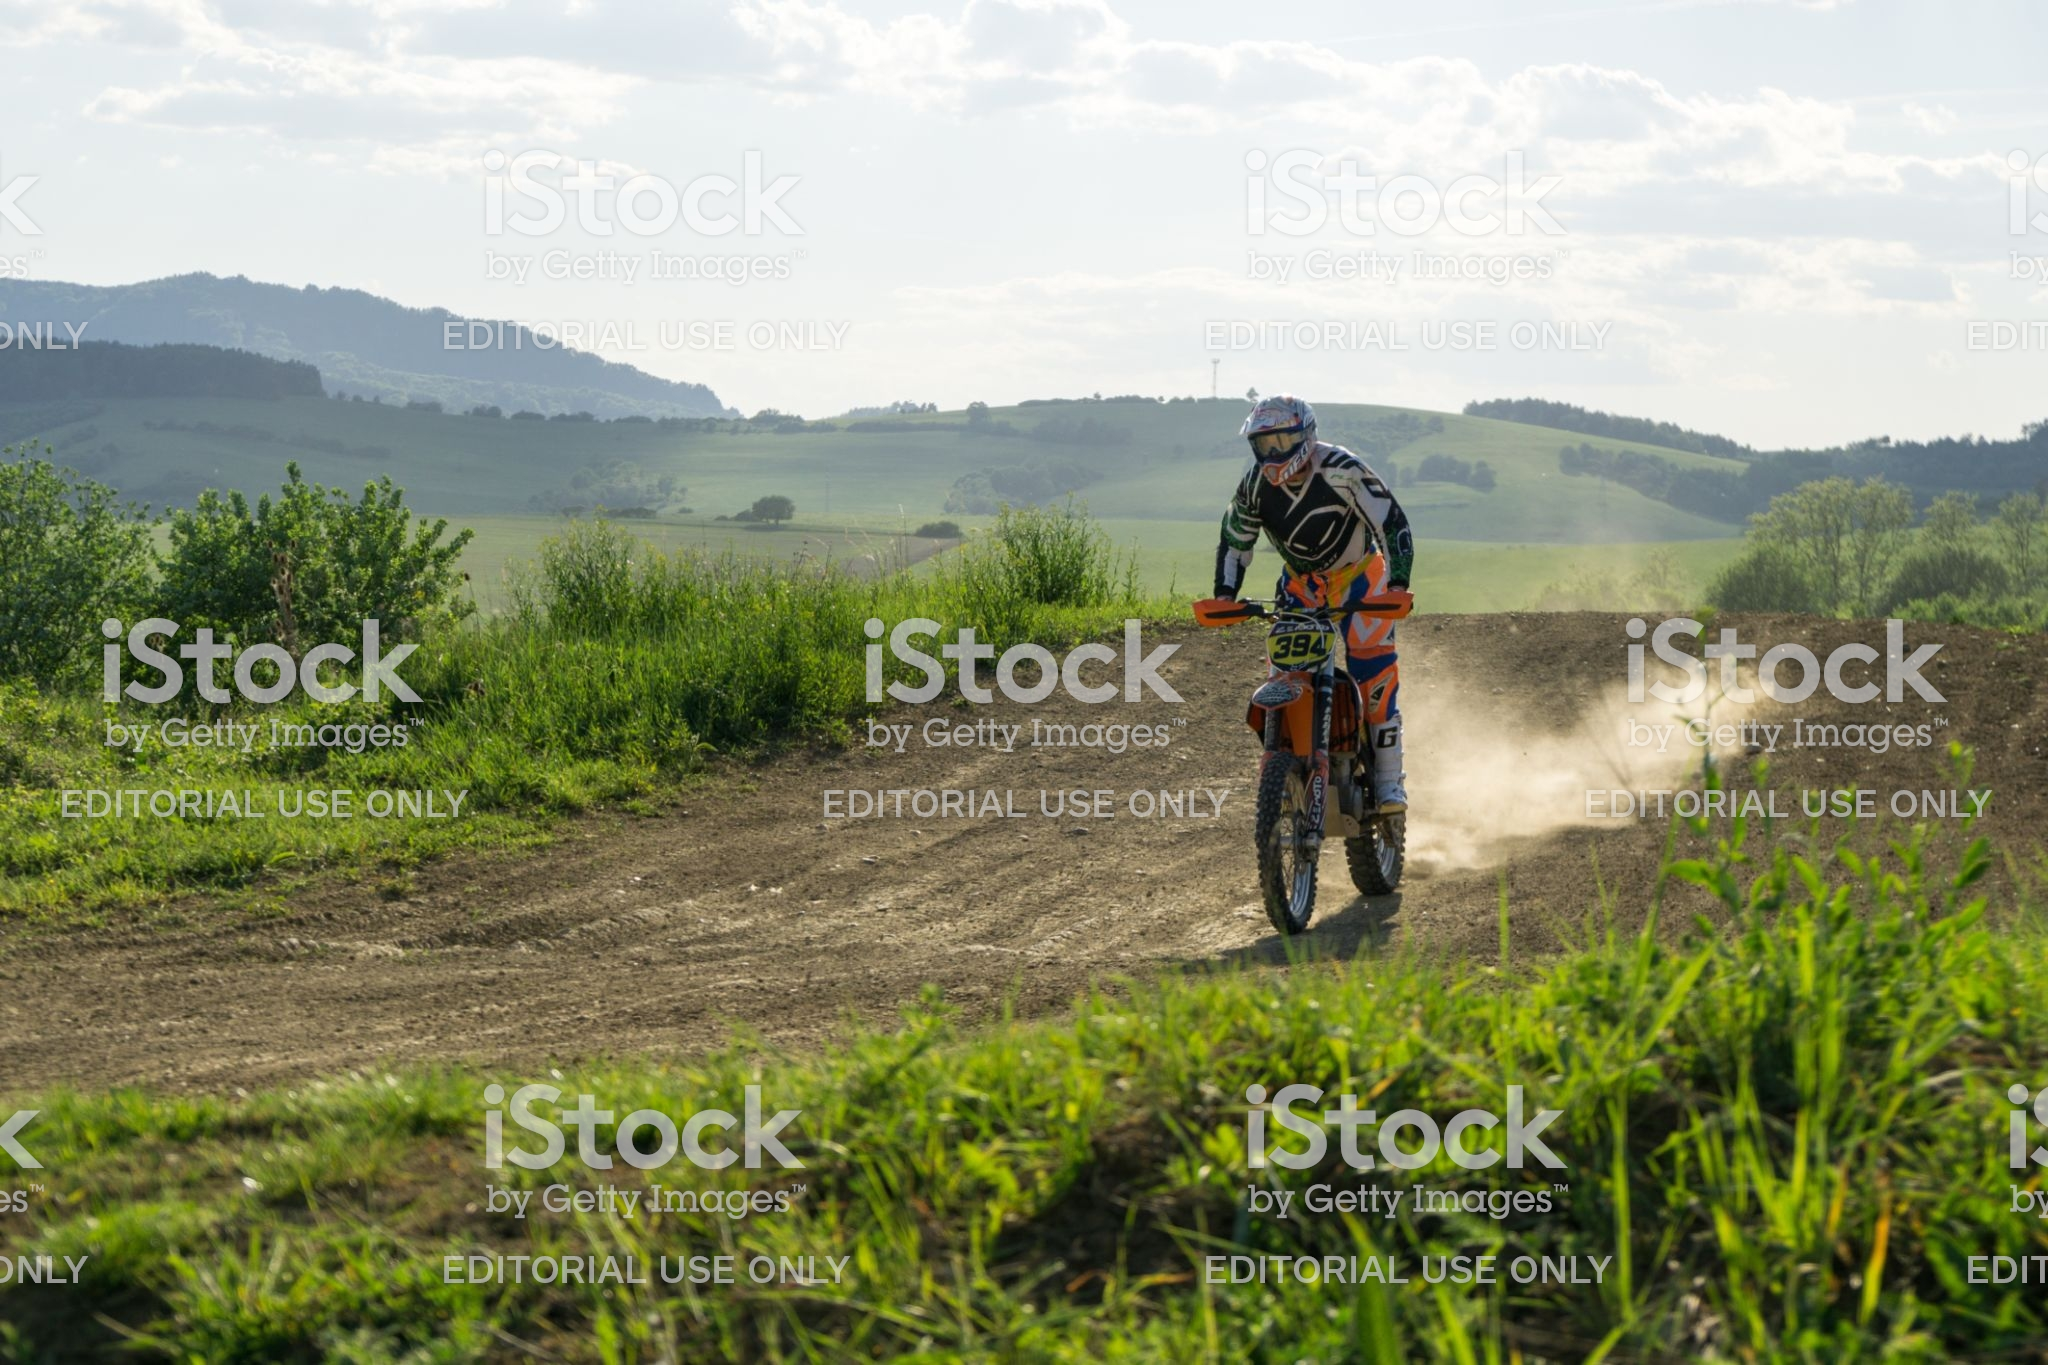helmet: (1221, 396, 1325, 494)
